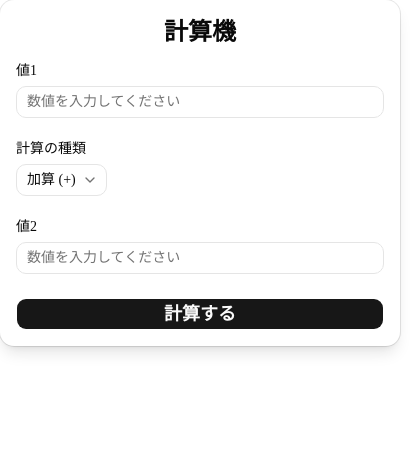
Calc コンポーネントのテスト › 値1と値2を入力して加算ができること
The image size is (418, 450).
# ユーザーの操作（入力とクリック）を非同期でシミュレートする
Type "10" into the number field labelled "値1" at [200, 102], box 16,86 -> 384,118
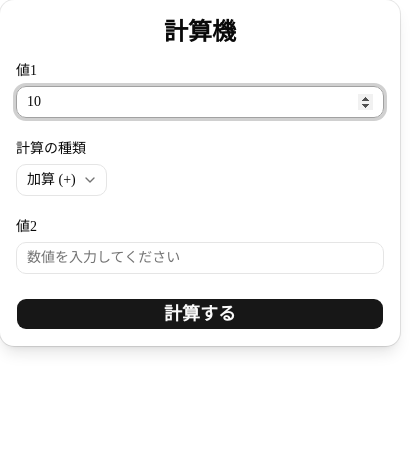
Type "20" into the number field labelled "値2" at [200, 258], box 16,242 -> 384,274
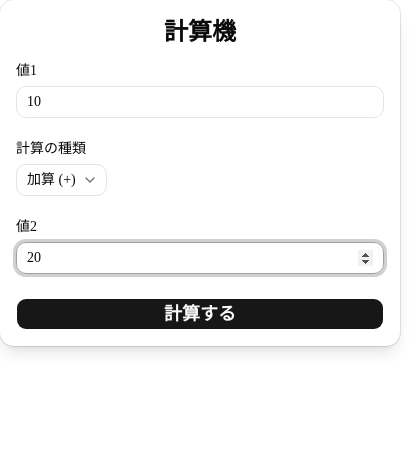
Click the button "計算する" at [200, 314], box 16,298 -> 384,330
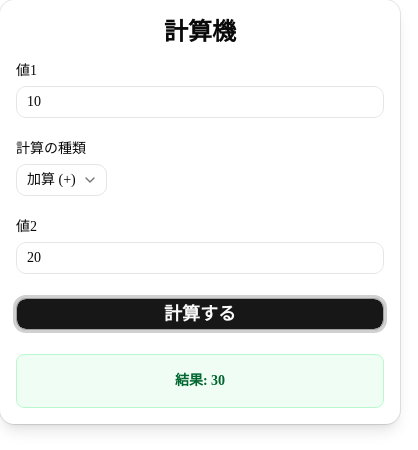
Result: the text with test id "result-display" reads "結果: 30" at 175,373 -> 225,388
